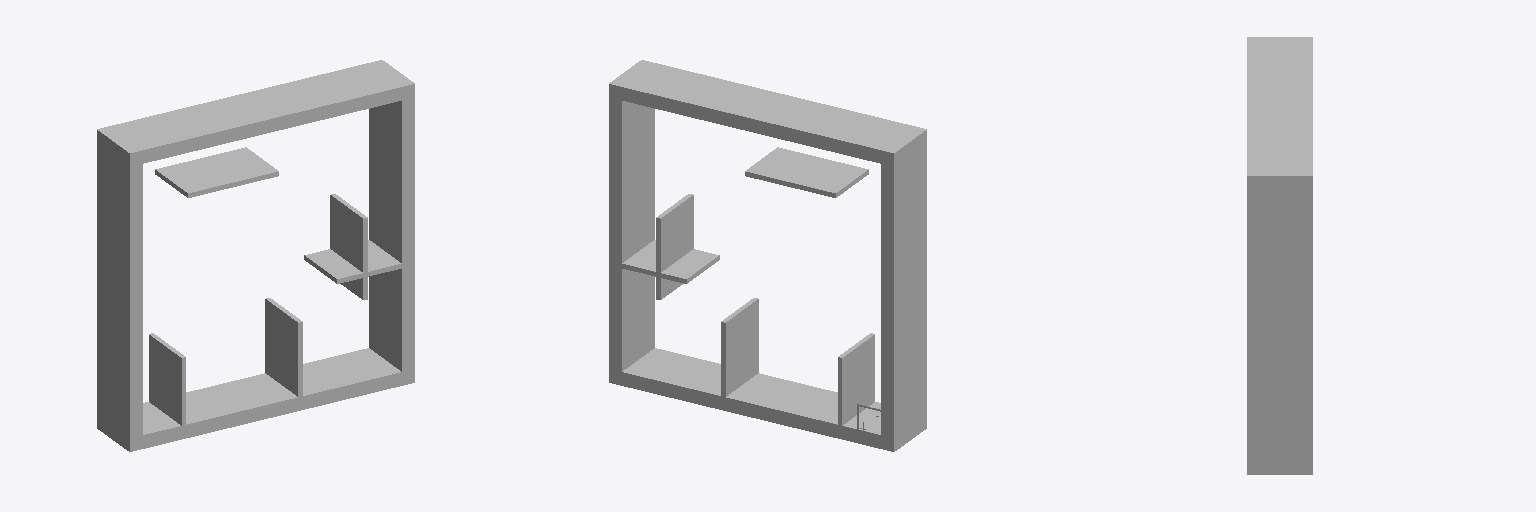
Rendered from Room13.obj.
3 views of the same model, side by side, from view 1: azimuth 30°, elevation 25°; view 2: azimuth 150°, elevation 25°; view 3: azimuth 270°, elevation 25° (orthographic).
Parts seen in each view (by area): view 1: Curve.001_mesh_Curve.011; view 2: Curve.001_mesh_Curve.011; view 3: Curve.001_mesh_Curve.011.
Part boxes in pixels (bbox=[...]): Curve.001_mesh_Curve.011: bbox=[97, 60, 414, 451]; Curve.001_mesh_Curve.011: bbox=[609, 60, 926, 451]; Curve.001_mesh_Curve.011: bbox=[1247, 37, 1312, 474].
Bounding box in the file's own units: 1 × 1 × 0.2.